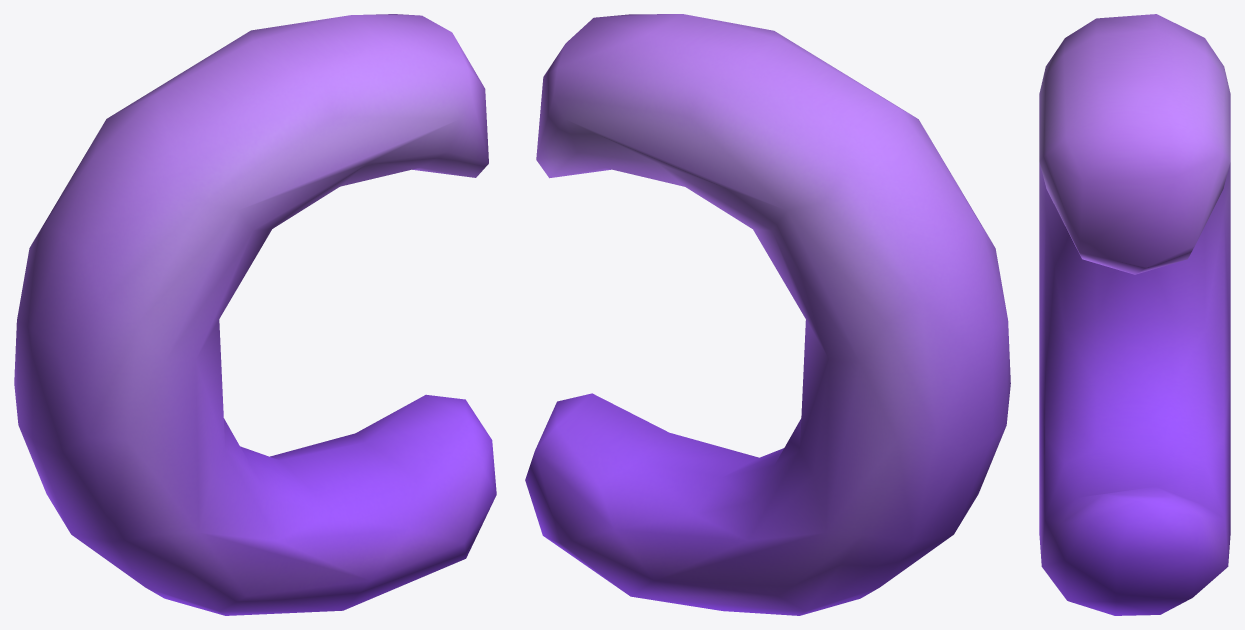
3 views of the same model, side by side, from view 1: azimuth 30°, elevation 25°; view 2: azimuth 150°, elevation 25°; view 3: azimuth 270°, elevation 25° (orthographic). The views are drawn at different scales.
Parts seen in each view (by area): view 1: Processed_Mesh0_Geometry; view 2: Processed_Mesh0_Geometry; view 3: Processed_Mesh0_Geometry.
Part boxes in pixels (x1,y1,x2,y2): Processed_Mesh0_Geometry: (14, 14, 496, 615); Processed_Mesh0_Geometry: (525, 14, 1010, 615); Processed_Mesh0_Geometry: (1039, 14, 1230, 615).
Size of what is drawn, in the model's own units: 0.0474 by 0.0573 by 0.0188.
Materials: 1 (1 with a texture image).
